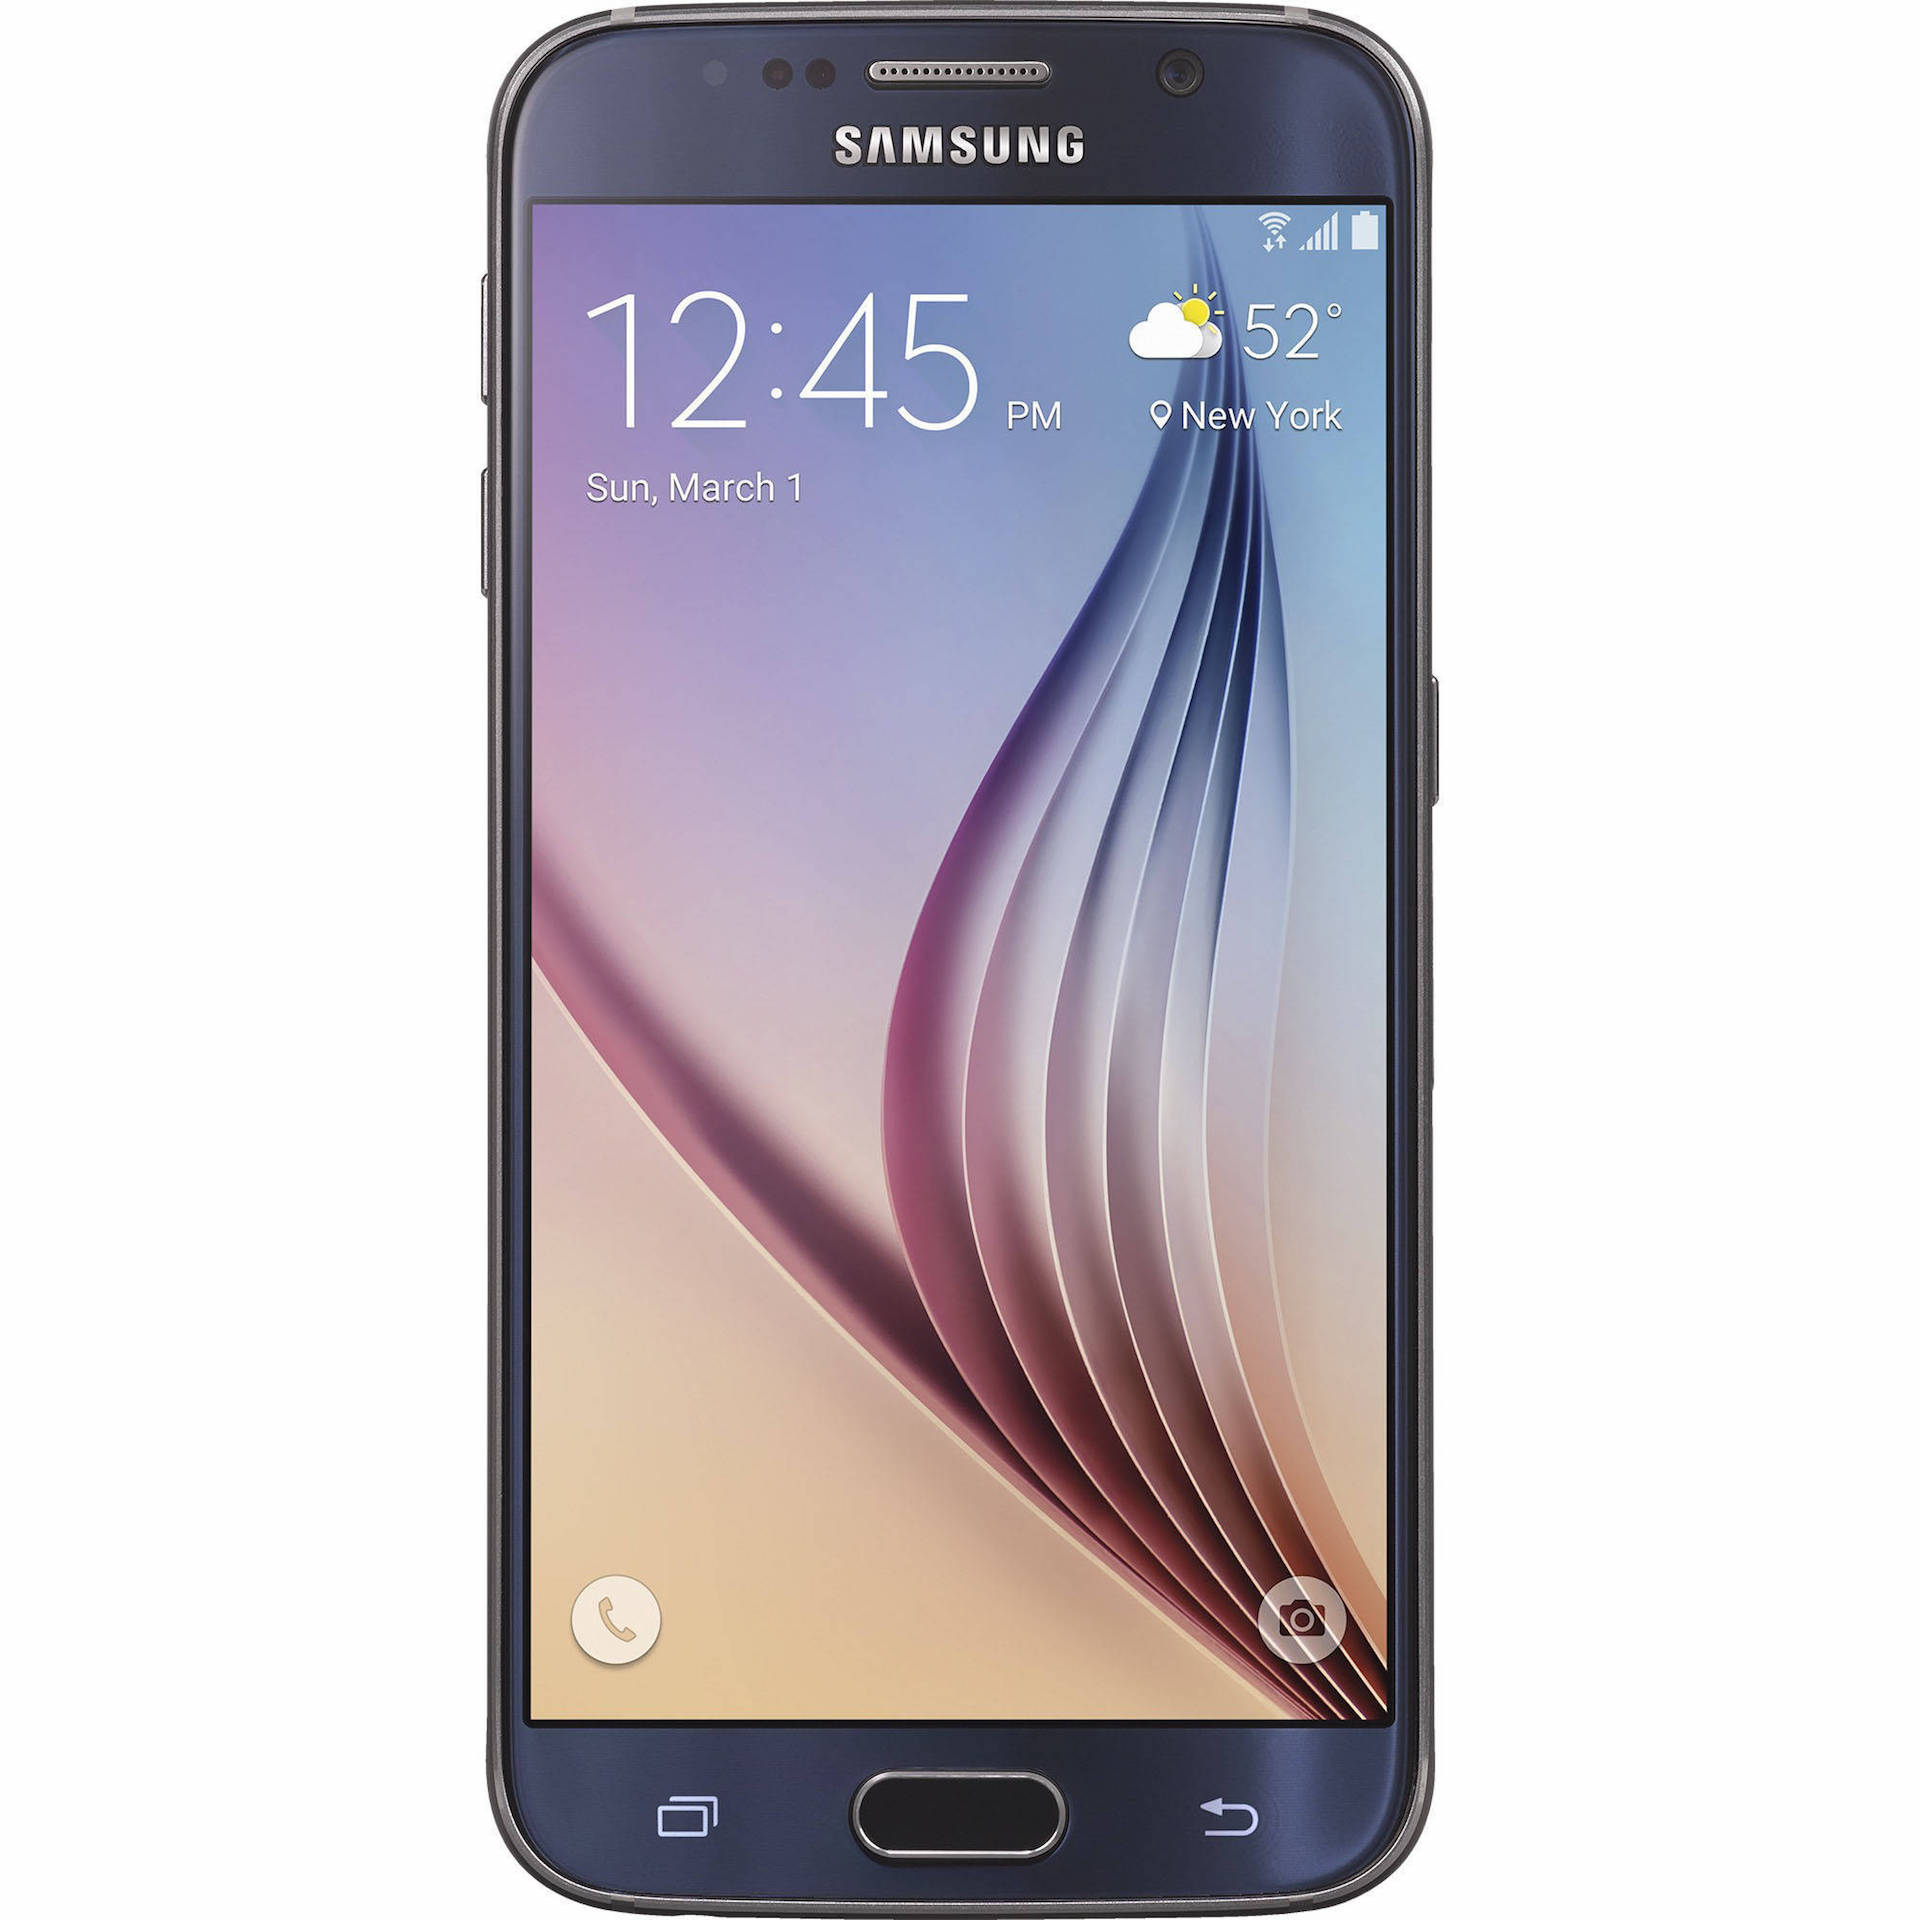smartphone: (468, 9, 1451, 1918)
